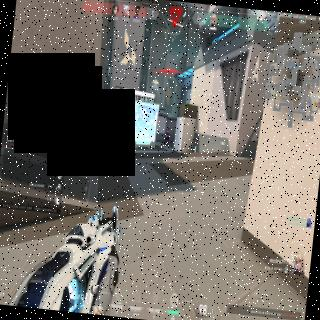ENEMY-BODY: (164, 125, 170, 146)
ENEMY-HEAD: (168, 126, 170, 130)
